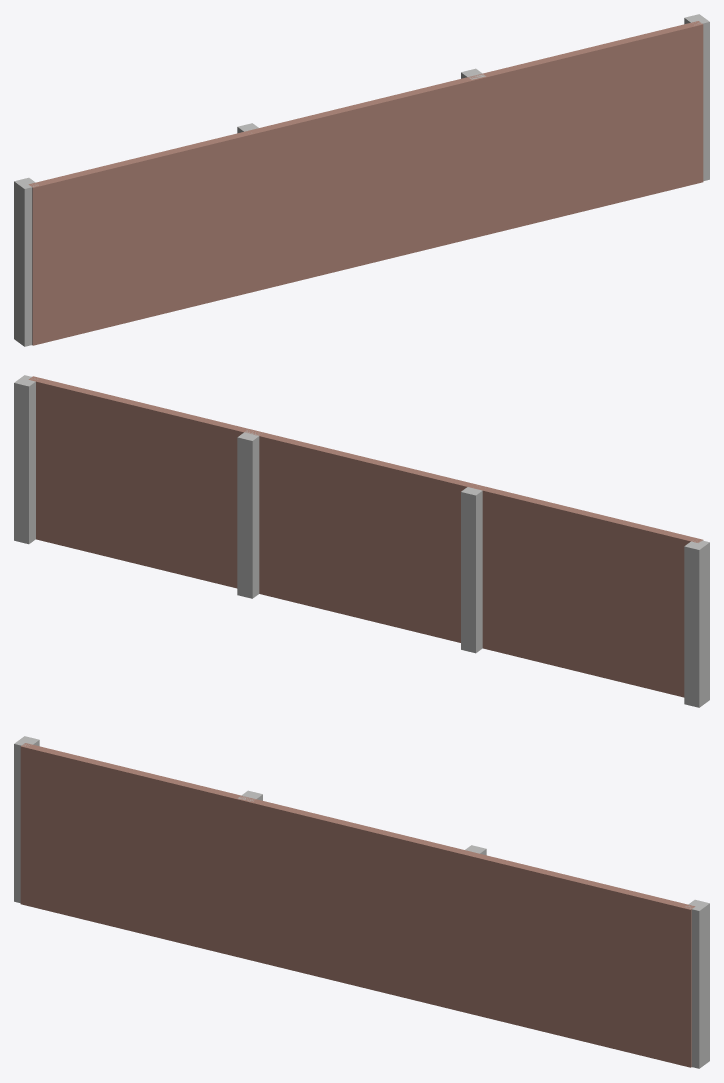
The model's file is warehouse_wall.glb.
3 renders of one model, top to bottom at view 1: azimuth 30°, elevation 25°; view 2: azimuth 150°, elevation 25°; view 3: azimuth 330°, elevation 25°, orthographic.
Visible parts, largest first — view 1: WarehouseWall, WarehouseWall_col0, WarehouseWall_col3; view 2: WarehouseWall, WarehouseWall_col0, WarehouseWall_col2, WarehouseWall_col3, WarehouseWall_col1; view 3: WarehouseWall, WarehouseWall_col3, WarehouseWall_col0.
Part boxes in pixels (left/top/right/bottom): WarehouseWall: left=28, top=21, right=703, bottom=345; WarehouseWall_col0: left=14, top=177, right=38, bottom=346; WarehouseWall_col3: left=684, top=14, right=709, bottom=181; WarehouseWall: left=28, top=376, right=703, bottom=697; WarehouseWall_col0: left=684, top=540, right=709, bottom=707; WarehouseWall_col2: left=237, top=430, right=259, bottom=598; WarehouseWall_col3: left=14, top=375, right=37, bottom=544; WarehouseWall_col1: left=461, top=487, right=482, bottom=653; WarehouseWall: left=20, top=743, right=695, bottom=1067; WarehouseWall_col3: left=685, top=899, right=709, bottom=1068; WarehouseWall_col0: left=14, top=736, right=39, bottom=903.
Size of the model in its own units: 40.9 by 9 by 1.2.
